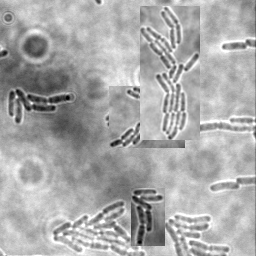Dividing: (186, 123, 255, 142), (221, 41, 248, 52)
Microcolony: (140, 6, 200, 140), (51, 200, 147, 255), (109, 86, 185, 148), (162, 212, 231, 255), (8, 89, 72, 126), (131, 188, 165, 246), (208, 182, 240, 193)
